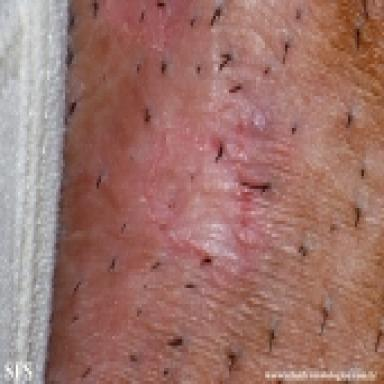Porokeratosis: (143, 124, 253, 278)
